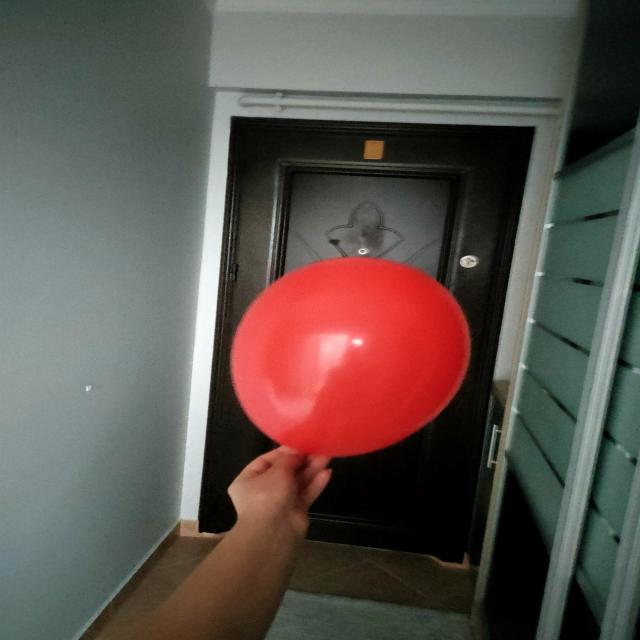red: (232, 257, 471, 458)
